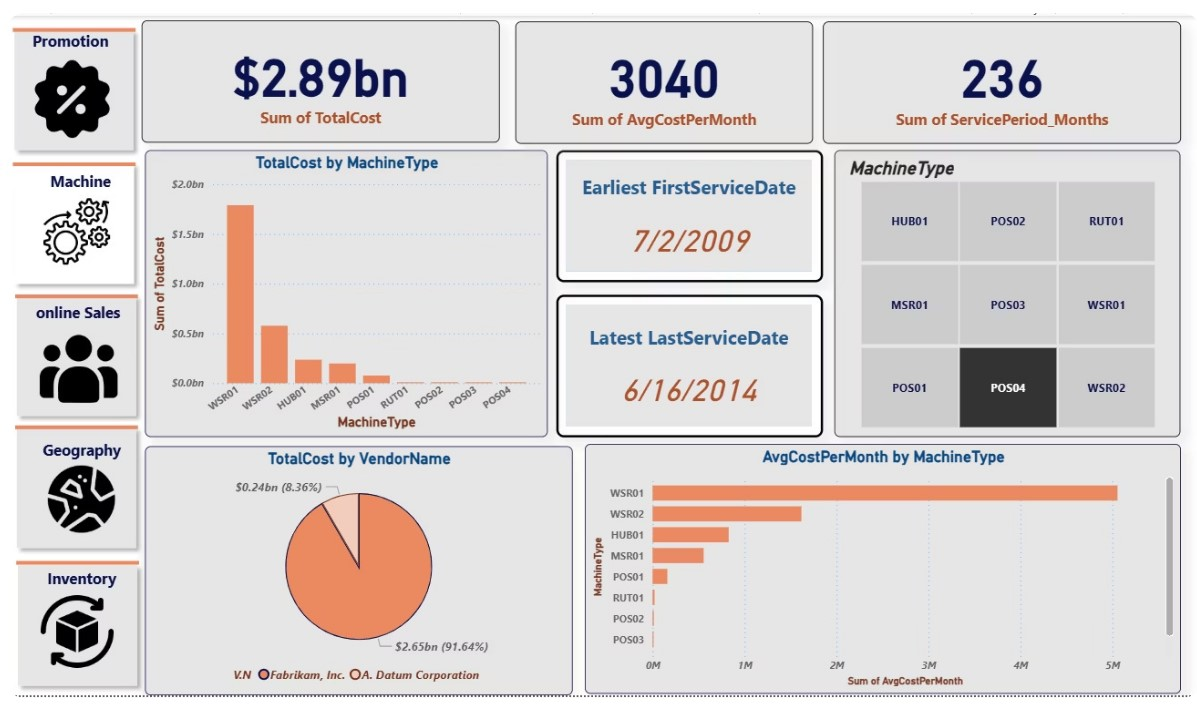

Layout of this report page (visuals, bound fields, positions):
{"tool":"powerbi","page":{"name":"Machine Performance Analysis","canvas":[1280,720],"ordinal":1},"visuals":[{"type":"clusteredColumnChart","title":"TotalCost by  MachineType","fields":{"Category":["Final Machine_Performance_Analysis.MachineType"],"Y":["Sum(Final Machine_Performance_Analysis.TotalCost)"]},"box":[147.5,142.5,426.2,303.8],"z":0},{"type":"pieChart","title":"TotalCost by VendorName","fields":{"Category":["Final Machine_Performance_Analysis.VendorName"],"Y":["Sum(Final Machine_Performance_Analysis.TotalCost)"]},"box":[147.5,456.2,452.5,263.8],"z":1000},{"type":"slicer","fields":{"Values":["Final Machine_Performance_Analysis.MachineType"]},"box":[877.5,142.5,366.2,303.8],"z":2000},{"type":"cardVisual","fields":{"Data":["Min(Final Machine_Performance_Analysis.FirstServiceDate)"]},"box":[582.5,142.5,282.5,140],"z":3000},{"type":"cardVisual","fields":{"Data":["Max(Final Machine_Performance_Analysis.LastServiceDate)"]},"box":[582.5,295,282.5,151.2],"z":4000},{"type":"card","fields":{"Values":["Sum(Final Machine_Performance_Analysis.TotalCost)"]},"box":[143.9,4.4,379.3,129.3],"z":5000},{"type":"barChart","title":"AvgCostPerMonth by MachineType","fields":{"Category":["Final Machine_Performance_Analysis.MachineType"],"Y":["Sum(Final Machine_Performance_Analysis.AvgCostPerMonth)"]},"box":[612.5,453.8,631.2,265],"z":6000},{"type":"card","fields":{"Values":["Sum(Final Machine_Performance_Analysis.AvgCostPerMonth)"]},"box":[539.1,5.8,315.4,129.3],"z":7000},{"type":"card","fields":{"Values":["Sum(Final Machine_Performance_Analysis.ServicePeriod_Months)"]},"box":[864.7,5.8,379.3,129.3],"z":8000},{"type":"shape","box":[0,5.7,143.9,145.2],"z":9000},{"type":"shape","box":[7,0,130,30],"z":10000},{"type":"textbox","box":[23,10.9,113.9,38.7],"z":11000},{"type":"shape","box":[0,147.1,144.3,145.7],"z":12000},{"type":"shape","box":[2.9,287.1,144.3,145.7],"z":13000},{"type":"shape","box":[2.9,427.1,144.3,145.7],"z":14000},{"type":"shape","box":[3.6,572.9,144.3,145.7],"z":15000},{"type":"shape","box":[7.1,142.9,130,30],"z":16000},{"type":"shape","box":[10,282.9,130,30],"z":17000},{"type":"shape","box":[10,420.7,130,30],"z":18000},{"type":"shape","box":[10.7,565,130,30],"z":19000},{"type":"textbox","box":[21.8,159.1,114.5,39.1],"z":20000},{"type":"textbox","box":[26.4,298.2,114.5,39.1],"z":21000},{"type":"textbox","box":[22.7,443.6,114.5,39.1],"z":22000},{"type":"textbox","box":[22.7,580,114.5,39.1],"z":23000},{"type":"image","box":[21.2,42.5,96.2,92.5],"z":24000},{"type":"image","box":[32.5,185,85,87.5],"z":25000},{"type":"image","box":[33.8,471.2,91.2,81.2],"z":26000},{"type":"image","box":[30,328.8,93.8,92.5],"z":27000},{"type":"image","box":[26.2,602.5,97.5,101.2],"z":28000}]}

Visuals, with their boxes on the page's 1280x720 design canvas (x1, y1, x2, y2). These are canvas units, not pixel positions in the 1197x707 screenshot, which may show the page scaled, cropped or inside an application window:
"TotalCost by  MachineType" clusteredColumnChart: <box>148,142,574,446</box>
"TotalCost by VendorName" pieChart: <box>148,456,600,720</box>
slicer - Final Machine_Performance_Analysis.MachineType: <box>878,142,1244,446</box>
cardVisual - Min(Final Machine_Performance_Analysis.FirstServiceDate): <box>582,142,865,282</box>
cardVisual - Max(Final Machine_Performance_Analysis.LastServiceDate): <box>582,295,865,446</box>
card - Sum(Final Machine_Performance_Analysis.TotalCost): <box>144,4,523,134</box>
"AvgCostPerMonth by MachineType" barChart: <box>612,454,1244,719</box>
card - Sum(Final Machine_Performance_Analysis.AvgCostPerMonth): <box>539,6,854,135</box>
card - Sum(Final Machine_Performance_Analysis.ServicePeriod_Months): <box>865,6,1244,135</box>
shape: <box>0,6,144,151</box>
shape: <box>7,0,137,30</box>
textbox: <box>23,11,137,50</box>
shape: <box>0,147,144,293</box>
shape: <box>3,287,147,433</box>
shape: <box>3,427,147,573</box>
shape: <box>4,573,148,719</box>
shape: <box>7,143,137,173</box>
shape: <box>10,283,140,313</box>
shape: <box>10,421,140,451</box>
shape: <box>11,565,141,595</box>
textbox: <box>22,159,136,198</box>
textbox: <box>26,298,141,337</box>
textbox: <box>23,444,137,483</box>
textbox: <box>23,580,137,619</box>
image: <box>21,42,117,135</box>
image: <box>32,185,118,272</box>
image: <box>34,471,125,552</box>
image: <box>30,329,124,421</box>
image: <box>26,602,124,704</box>
